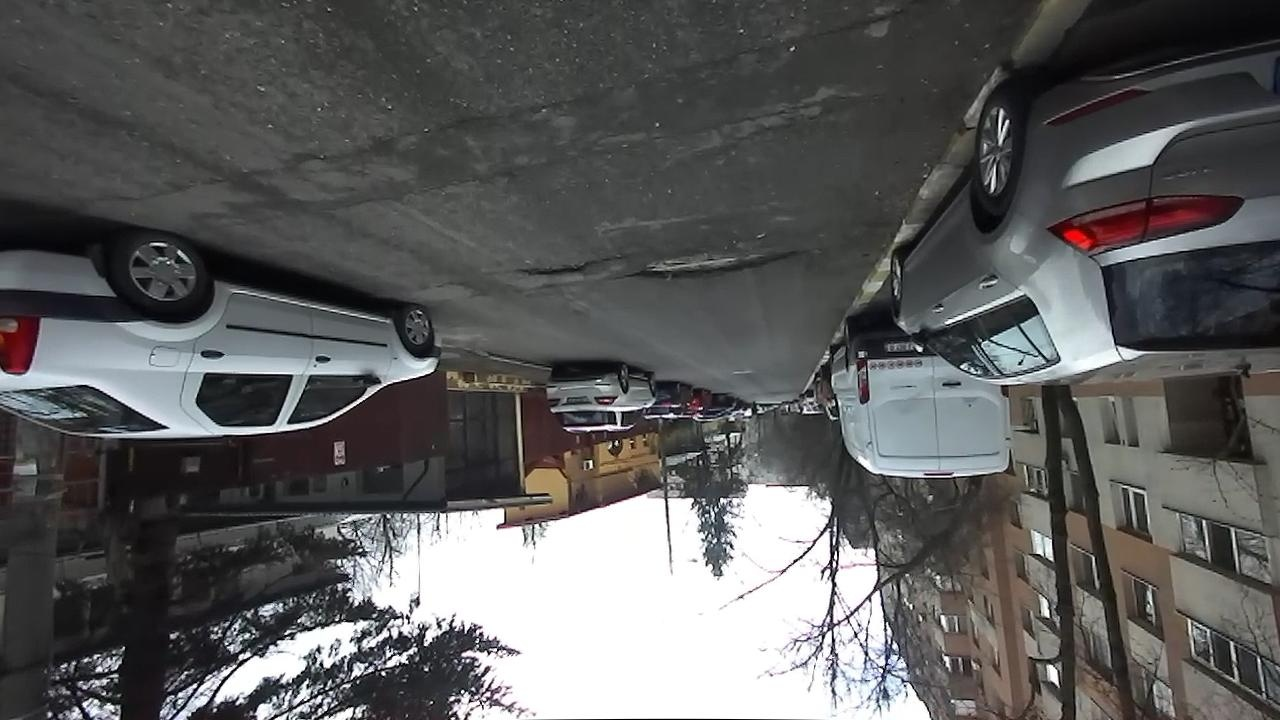pothole: (627, 241, 807, 283), (515, 255, 603, 279)
